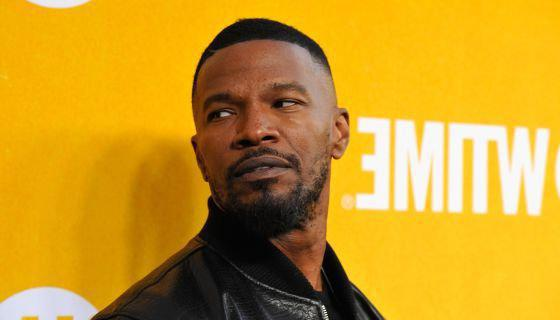Sober: (196, 62, 332, 220)
